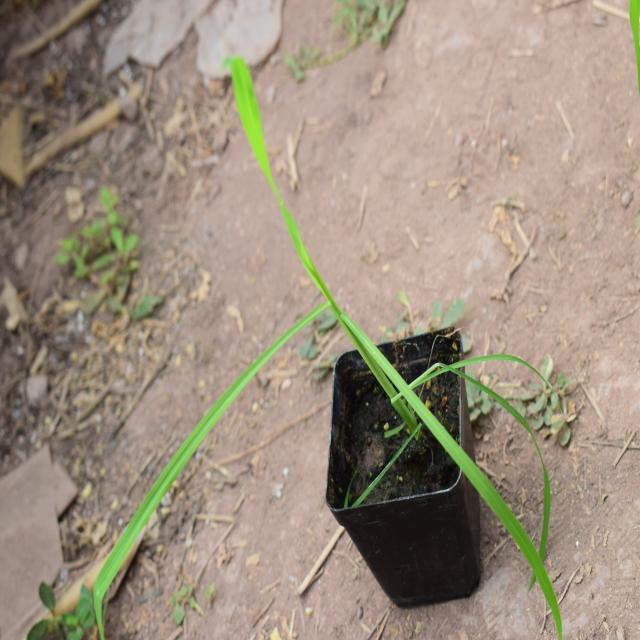barnyard_grass: (62, 105, 530, 570)
